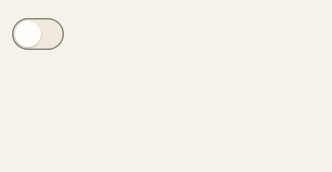
Test: Switch › bascule aria-checked et envoie la valeur avec le formulaire
Click the switch named "Partager le paiement" at (38, 34), box 12,12 -> 64,56
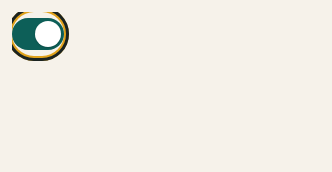
expect the switch named "Partager le paiement" is checked: met, box 12,12 -> 64,56
